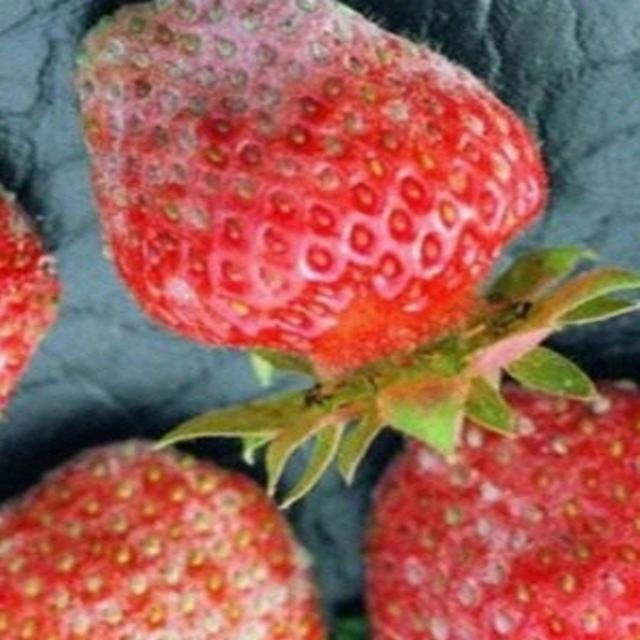Powdery Mildew Fruit: (67, 2, 552, 387), (362, 380, 638, 640), (0, 442, 335, 640)
